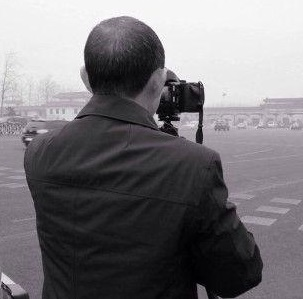person: (20, 14, 263, 299)
